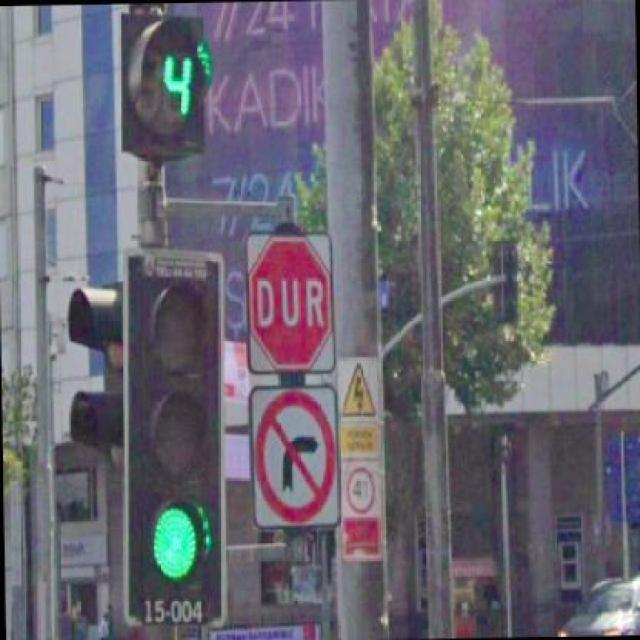yesil: (123, 256, 224, 629)
